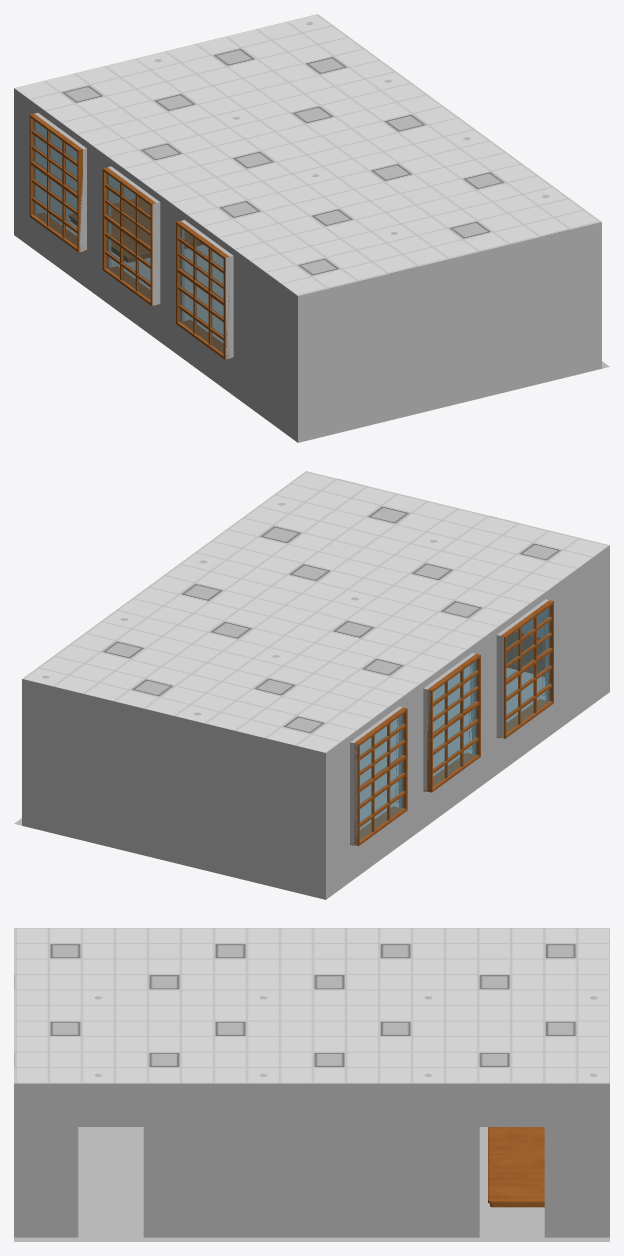
File: Classroom_Shell.fbx
3 renders of one model, top to bottom at view 1: azimuth 30°, elevation 25°; view 2: azimuth 150°, elevation 25°; view 3: azimuth 270°, elevation 25°, orthographic. The views are drawn at different scales.
Parts seen in each view (by area): view 1: Ceiling, Wall1, Window1, WindowGlass, Floor, Base; view 2: Ceiling, Wall1, Window1, WindowGlass, Floor, Woodwall; view 3: Ceiling, Wall1, Floor, Base.
Part boxes in pixels (x1,y1,x2,y2): Ceiling: [14, 14, 601, 295]; Wall1: [14, 88, 601, 442]; Window1: [29, 111, 233, 359]; WindowGlass: [33, 120, 223, 353]; Floor: [60, 221, 609, 368]; Base: [69, 198, 202, 262]; Ceiling: [22, 471, 609, 752]; Wall1: [22, 545, 609, 899]; Window1: [350, 598, 553, 846]; WindowGlass: [360, 607, 549, 839]; Floor: [14, 664, 545, 829]; Woodwall: [506, 631, 545, 676]; Ceiling: [14, 928, 609, 1083]; Wall1: [14, 1083, 609, 1237]; Floor: [14, 1127, 609, 1241]; Base: [488, 1127, 544, 1207].
Bounding box in the file's own units: 695 × 304 × 1067.
